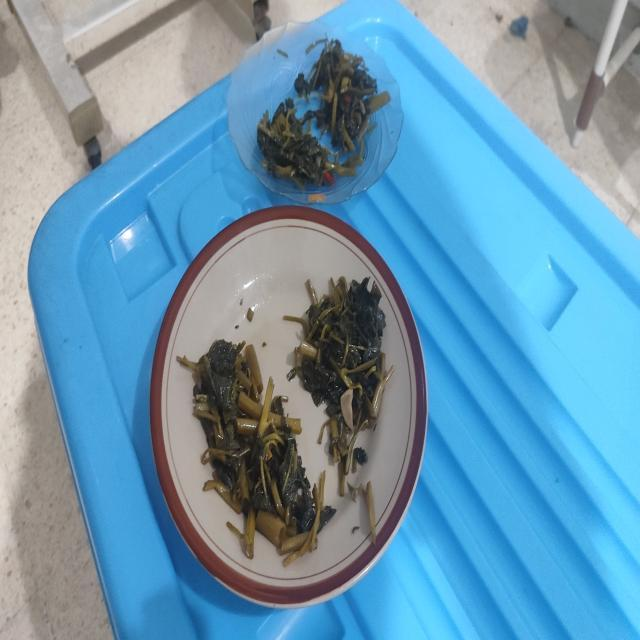tumis_kangkung: (177, 340, 336, 566), (294, 277, 390, 495), (295, 40, 377, 152), (258, 98, 336, 192)
